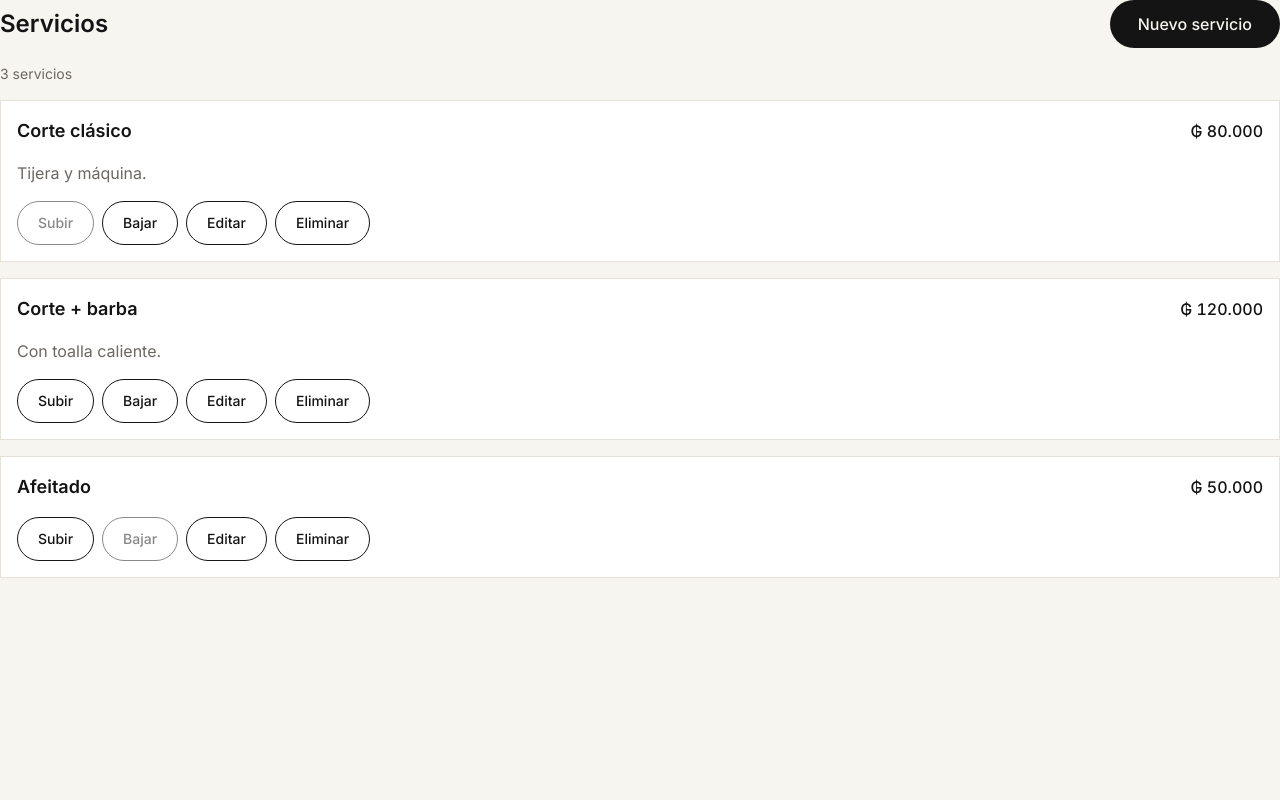
Scenario: confirmación de borrado › Eliminar abre el diálogo con el nombre y los dos botones del mismo peso
Step 1. Click the button with aria-label "Eliminar Corte + barba" → (323, 401), box [275,379,370,423]
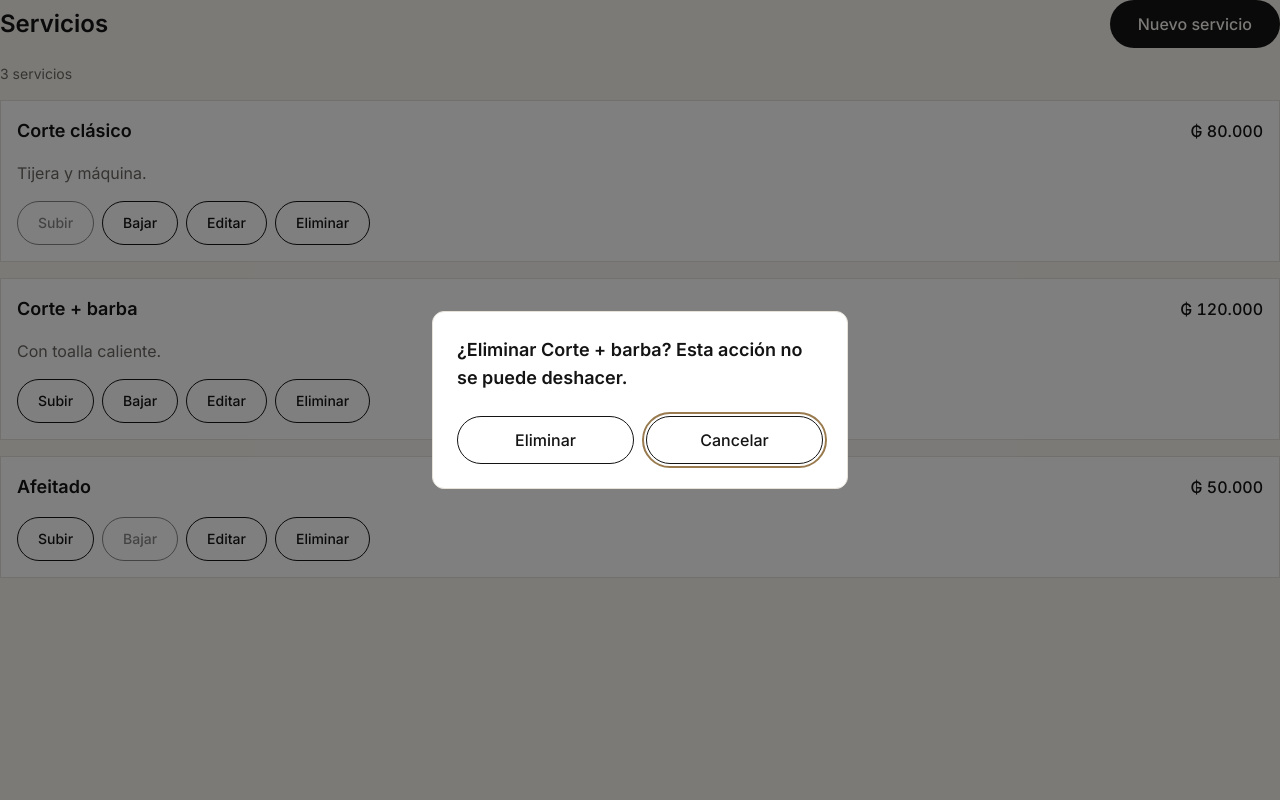
Result: the text "¿Eliminar Corte + barba? Esta acción no se puede deshacer." is shown at [457,336,823,392]
